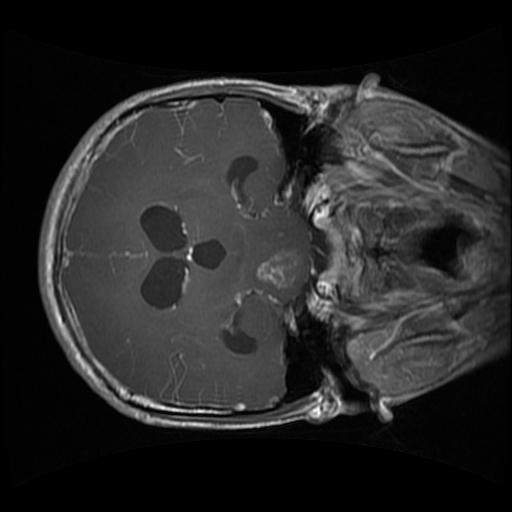glioma: (254, 246, 310, 292)
